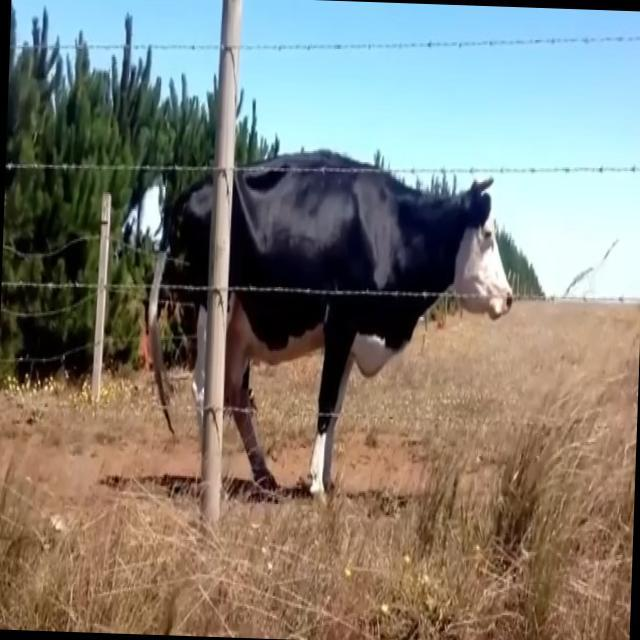COW: (226, 153, 512, 495), (169, 182, 213, 408)
